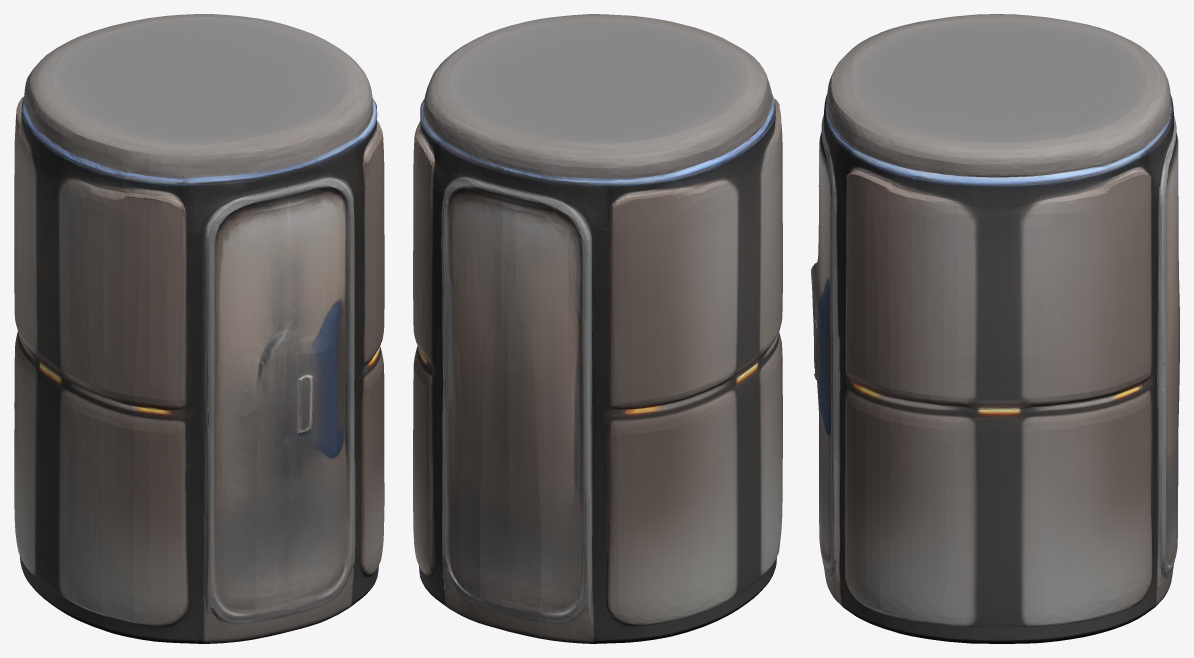
The model's file is sonic_shower.glb.
The picture shows the model from 3 angles, left to right: view 1: azimuth 30°, elevation 25°; view 2: azimuth 150°, elevation 25°; view 3: azimuth 270°, elevation 25°; orthographic projection.
Visible parts, largest first — view 1: world; view 2: world; view 3: world.
Part boxes in pixels (<box>): world: <box>14,14,384,643</box>; world: <box>413,14,782,643</box>; world: <box>811,14,1179,643</box>.
Bounding box in the file's own units: 0.6507 × 1 × 0.6766.
Materials: 1 (1 with a texture image).
